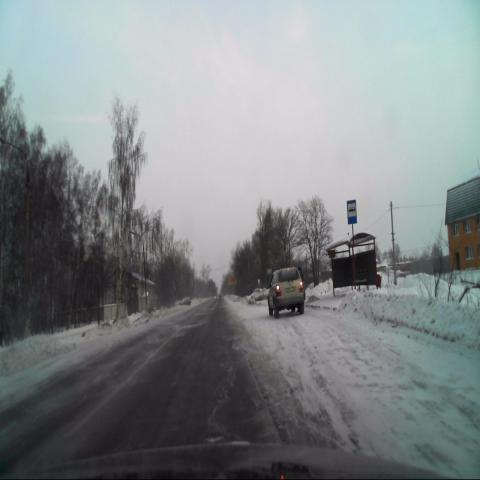5_16: (347, 199, 357, 224)
